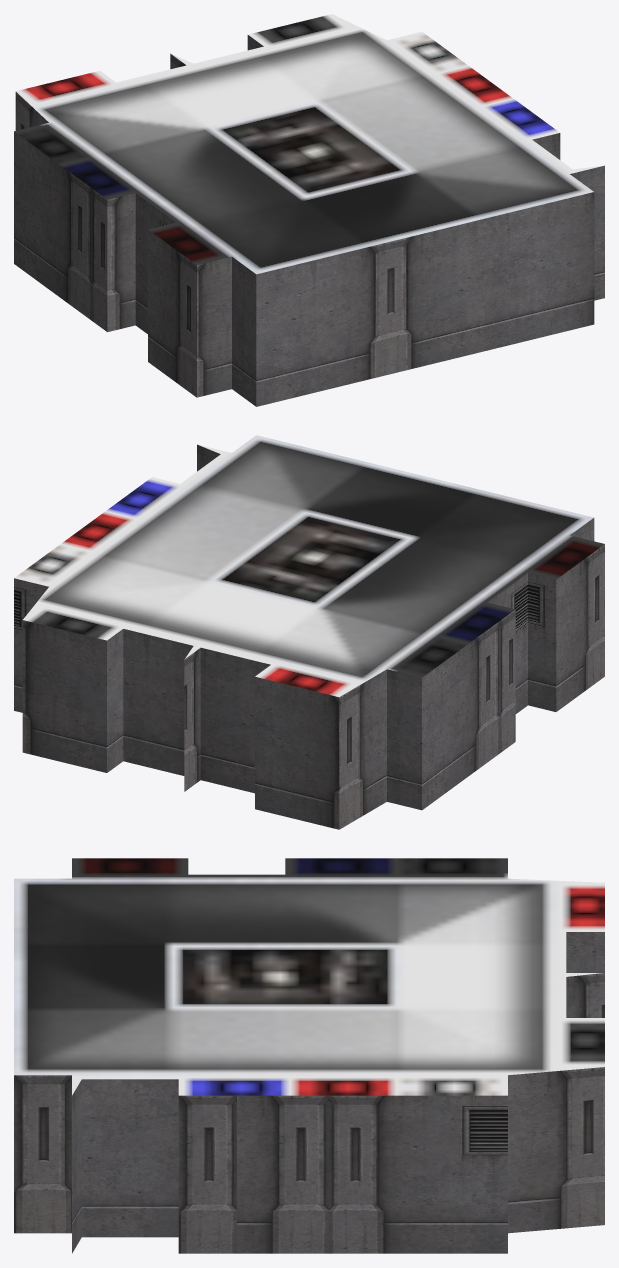
File: BuildingSystem-02-Intermediate-03-ReinforcedLow-H-100.glb
3 views of the same model, one above another, from view 1: azimuth 30°, elevation 25°; view 2: azimuth 150°, elevation 25°; view 3: azimuth 270°, elevation 25° (orthographic). The views are drawn at different scales.
Visible parts, largest first — view 1: buildings/saxarba/SMV_Buildings/BuildingSystem-02-Intermedia; view 2: buildings/saxarba/SMV_Buildings/BuildingSystem-02-Intermedia; view 3: buildings/saxarba/SMV_Buildings/BuildingSystem-02-Intermedia.
Boxes of the visible parts, left/top/right/bottom form: buildings/saxarba/SMV_Buildings/BuildingSystem-02-Intermedia: left=14, top=14, right=604, bottom=406; buildings/saxarba/SMV_Buildings/BuildingSystem-02-Intermedia: left=14, top=435, right=604, bottom=829; buildings/saxarba/SMV_Buildings/BuildingSystem-02-Intermedia: left=14, top=858, right=604, bottom=1253.
Bounding box in the file's own units: 58 × 18 × 61.
